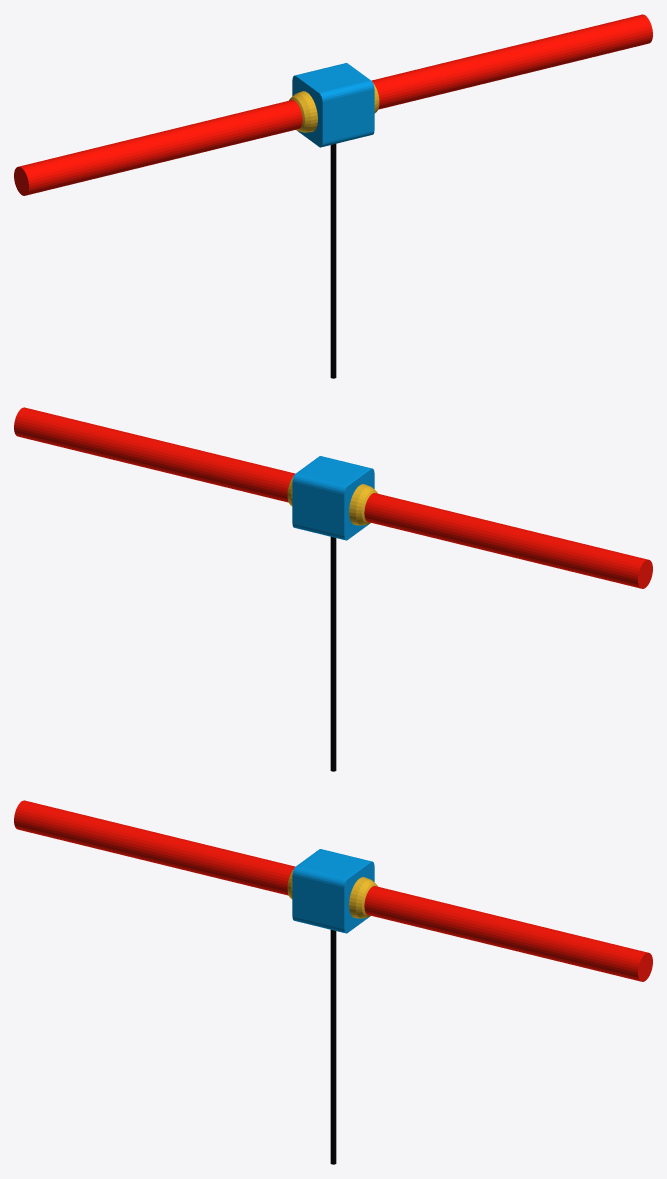
File: BigRotator.fbx
3 views of the same model, one above another, from view 1: azimuth 30°, elevation 25°; view 2: azimuth 150°, elevation 25°; view 3: azimuth 330°, elevation 25° (orthographic).
Visible parts, largest first — view 1: Rotator, Rotator handler, Base rod, Shaft; view 2: Rotator, Rotator handler, Base rod, Shaft; view 3: Rotator, Rotator handler, Base rod, Shaft.
Part boxes in pixels (x1=…): Rotator: x1=14, y1=14, x2=652, y2=195; Rotator handler: x1=292, y1=63, x2=374, y2=147; Base rod: x1=330, y1=144, x2=336, y2=378; Shaft: x1=289, y1=83, x2=379, y2=132; Rotator: x1=14, y1=407, x2=652, y2=588; Rotator handler: x1=292, y1=456, x2=374, y2=540; Base rod: x1=330, y1=537, x2=336, y2=771; Shaft: x1=287, y1=476, x2=377, y2=525; Rotator: x1=14, y1=800, x2=652, y2=981; Rotator handler: x1=292, y1=849, x2=374, y2=933; Base rod: x1=330, y1=930, x2=336, y2=1164; Shaft: x1=287, y1=869, x2=377, y2=918.
Size of the model in its own units: 2400 by 1100 by 200.
